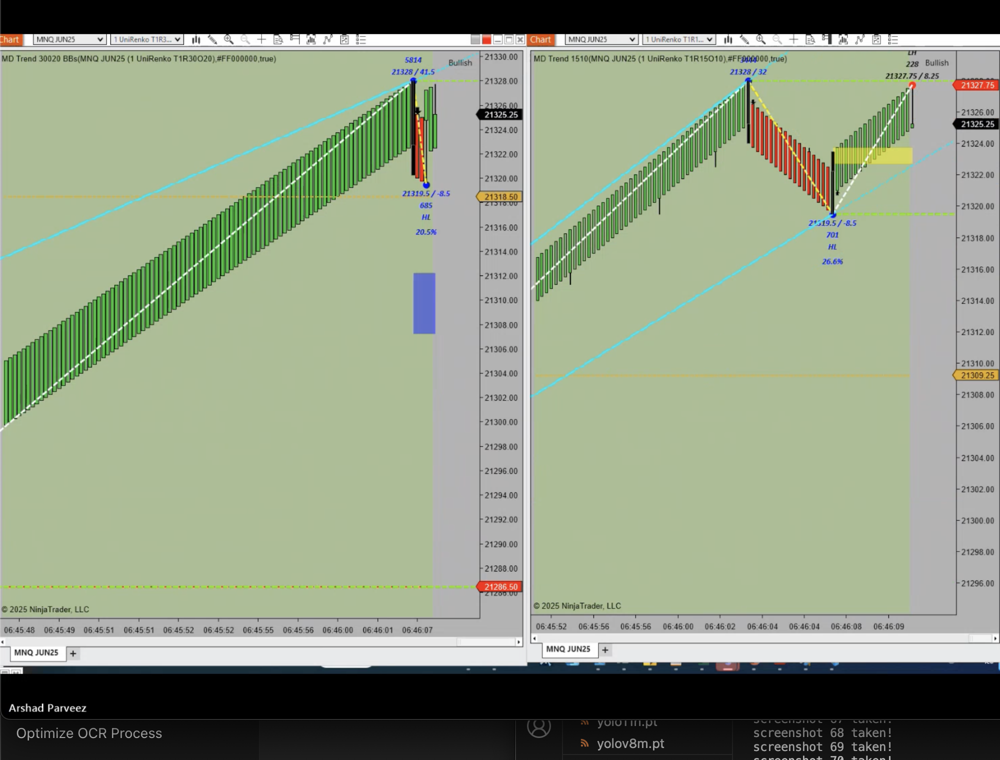HL: (414, 209, 440, 227), (821, 237, 843, 255)
LH: (904, 45, 923, 60)
